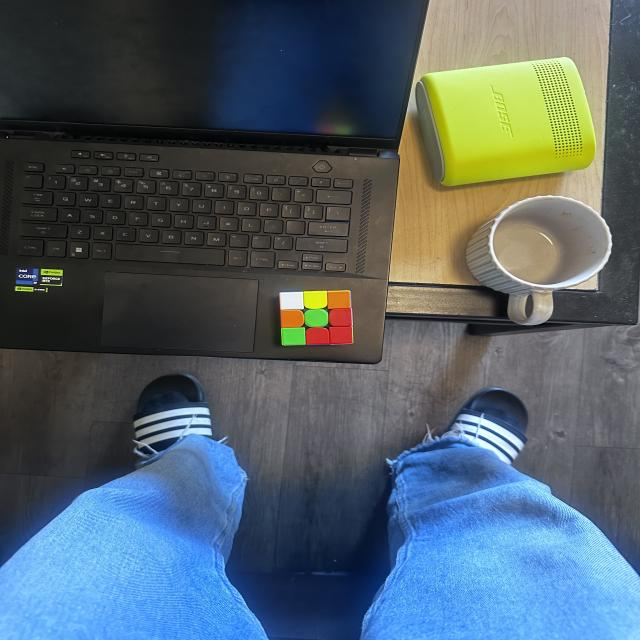sticker: (328, 326, 354, 346), (302, 290, 328, 310), (305, 326, 330, 346), (304, 308, 329, 328), (327, 308, 353, 327), (327, 290, 352, 309), (281, 327, 306, 346), (279, 291, 304, 310), (280, 310, 304, 328)
